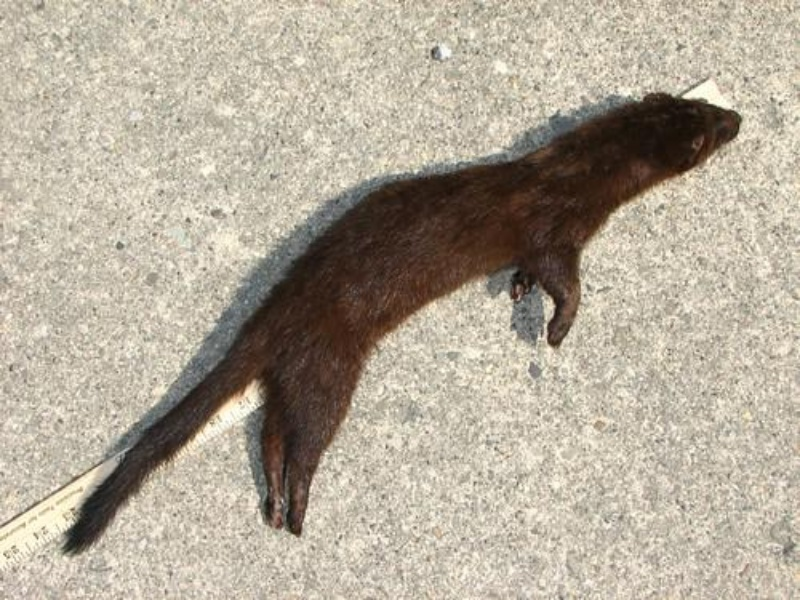minkish: (60, 90, 745, 559)
